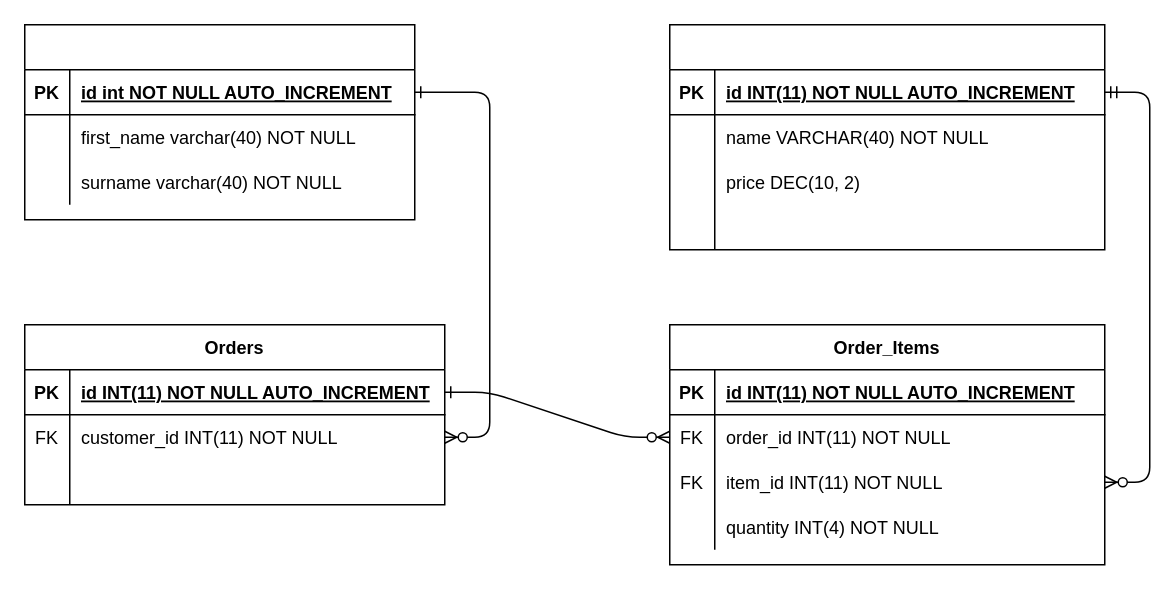
Some shapes in this 1175 by 590 pixel diagram are drawn without their labels. The box of each missing label's shape, as (x1, y1, x2, y2) in pixels:
Customers: (23, 23, 415, 220)
Items: (668, 23, 1105, 250)
